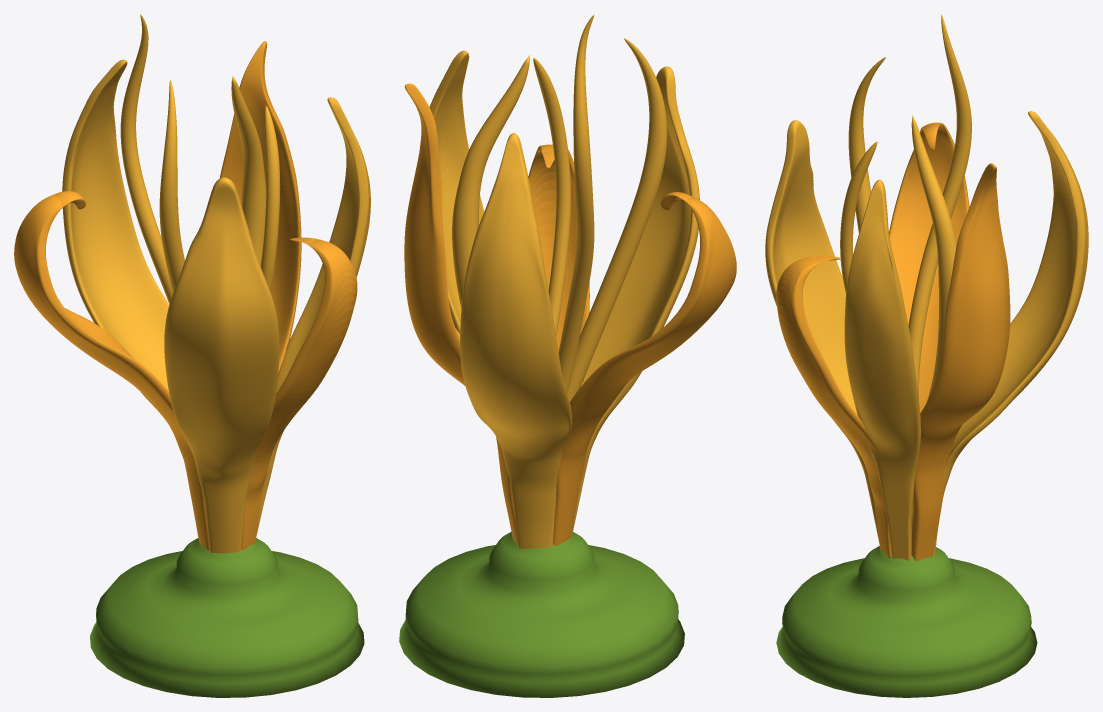
The model's file is fulua3.glb.
The picture shows the model from 3 angles, left to right: view 1: azimuth 30°, elevation 25°; view 2: azimuth 150°, elevation 25°; view 3: azimuth 270°, elevation 25°; orthographic projection. The views are drawn at different scales.
Parts seen in each view (by area): view 1: 贝塞尔曲线.008, Circle.110, Circle.109; view 2: 贝塞尔曲线.008, Circle.110, Circle.109; view 3: 贝塞尔曲线.008, Circle.109, Circle.110.
Boxes of the visible parts, box(x1,y1,x2,y2) form: 贝塞尔曲线.008: box(62, 14, 370, 553); Circle.110: box(90, 538, 364, 697); Circle.109: box(14, 41, 357, 550); 贝塞尔曲线.008: box(429, 14, 699, 548); Circle.110: box(399, 532, 684, 697); Circle.109: box(404, 83, 736, 545); 贝塞尔曲线.008: box(765, 14, 1088, 560); Circle.109: box(776, 122, 1010, 561); Circle.110: box(776, 546, 1037, 697).
Size of the model in its own units: 3.07 by 5.89 by 2.89.
